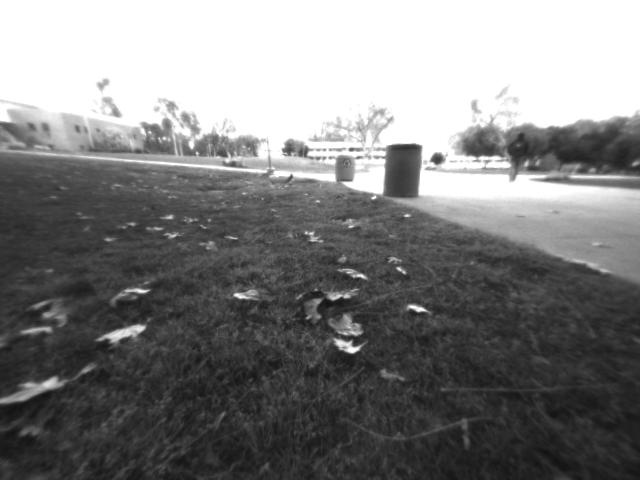trashcan: (386, 142, 422, 199), (335, 151, 356, 181)
